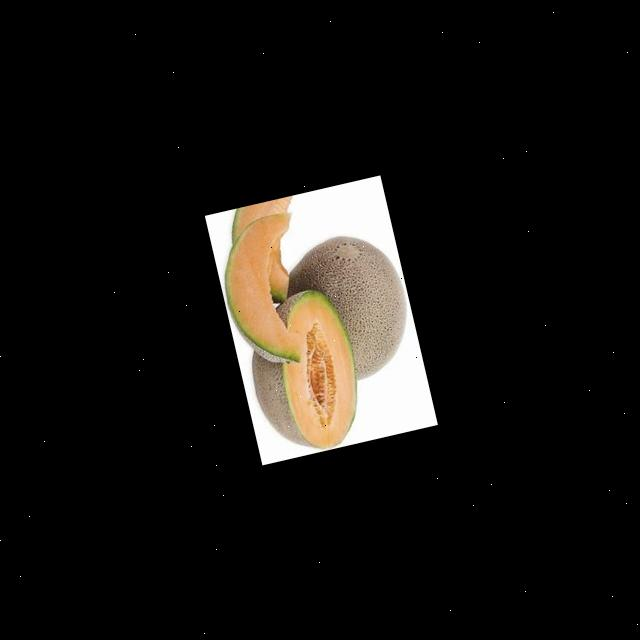Hami Melon: (280, 224, 419, 393), (236, 284, 370, 458), (210, 214, 306, 374)
